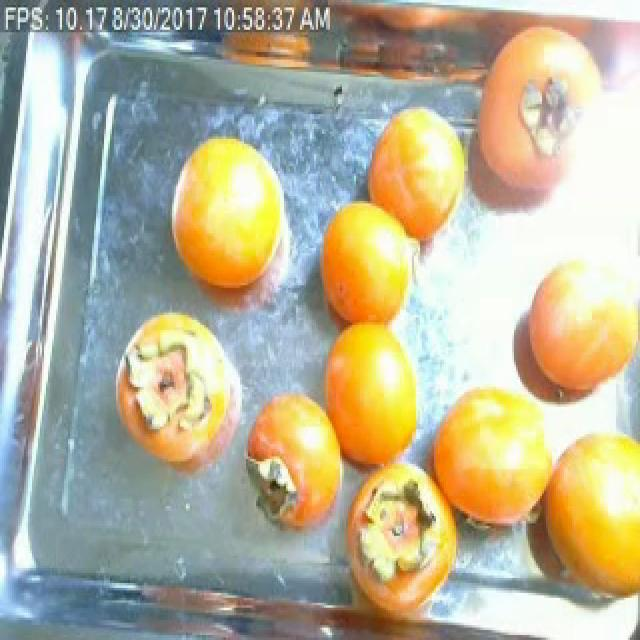Fruit: (158, 119, 302, 318), (498, 233, 640, 429), (108, 297, 252, 483), (354, 84, 484, 263), (306, 184, 428, 352), (236, 375, 350, 548)
